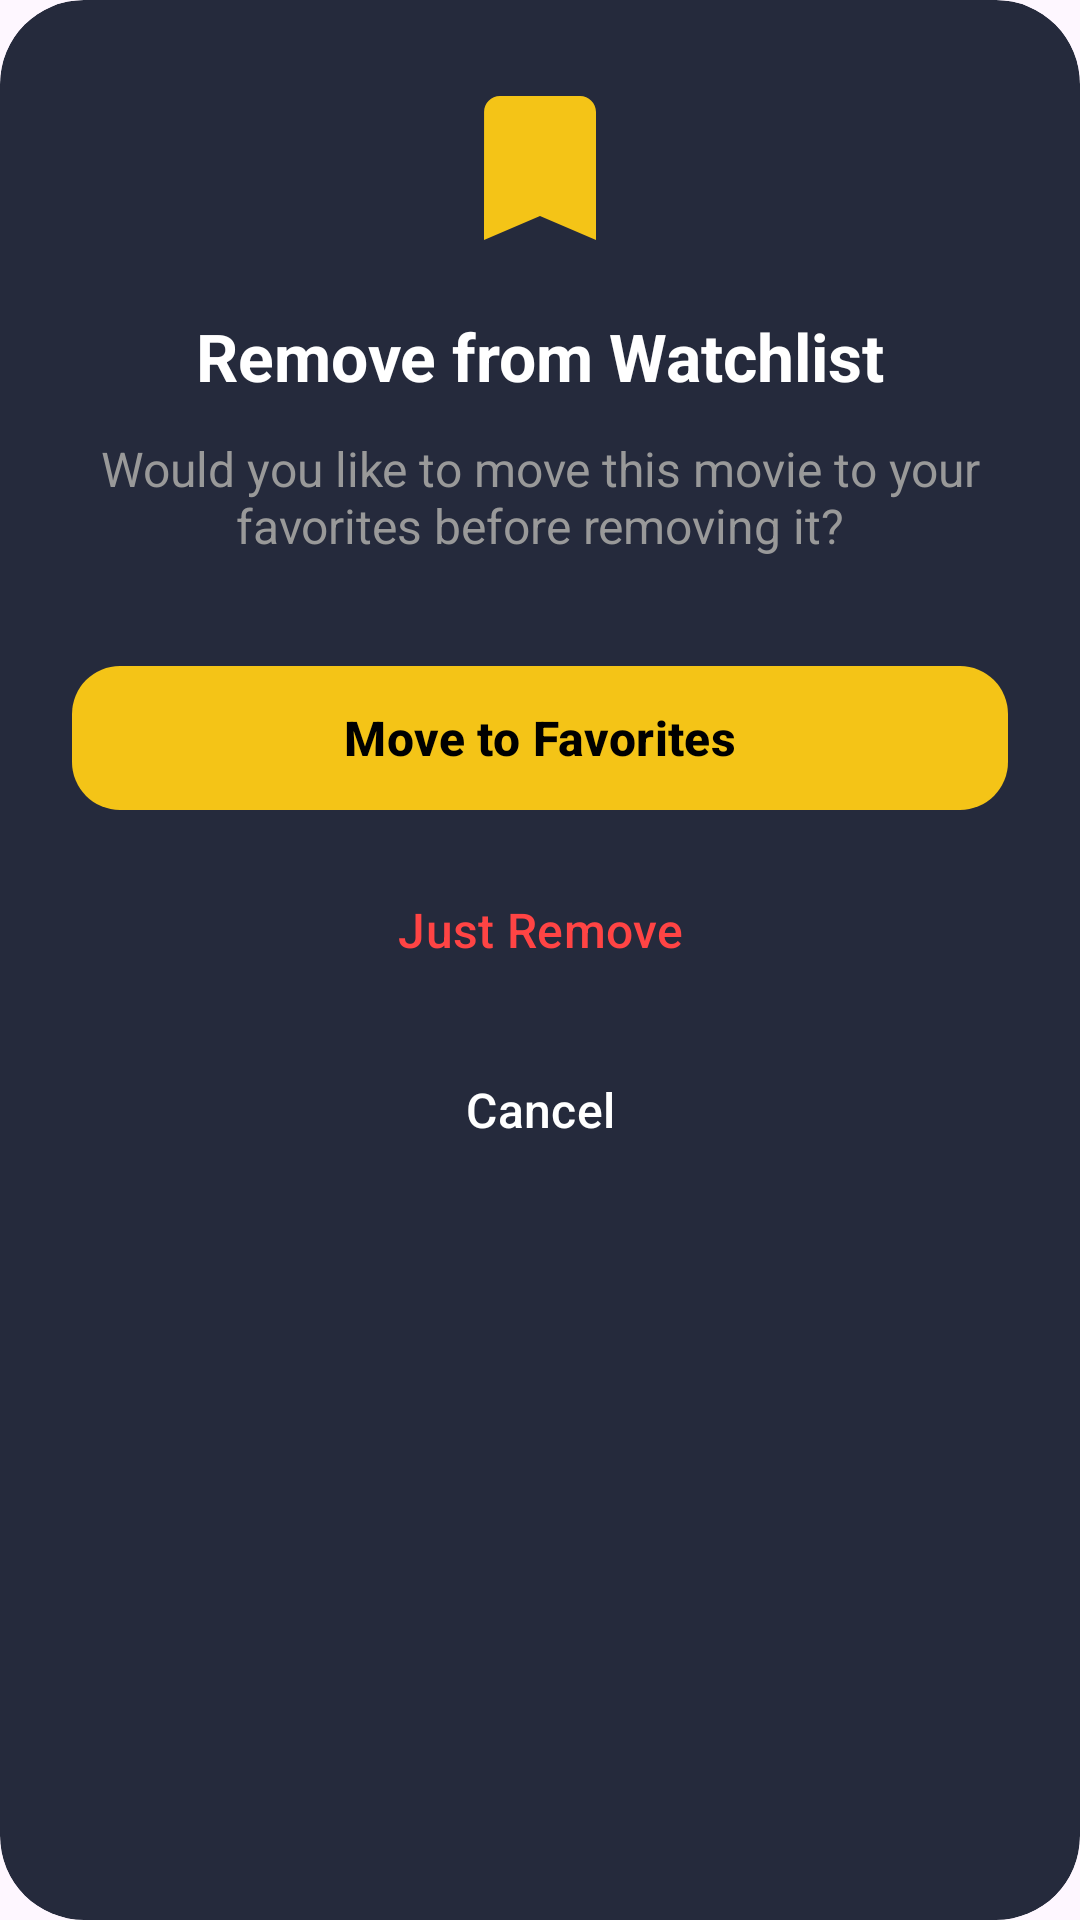

Icon bounding boxes for this 1080x1920 phone screenshot, format (x1, y1, x2, y2):
bookmark: (484, 96, 596, 240)
